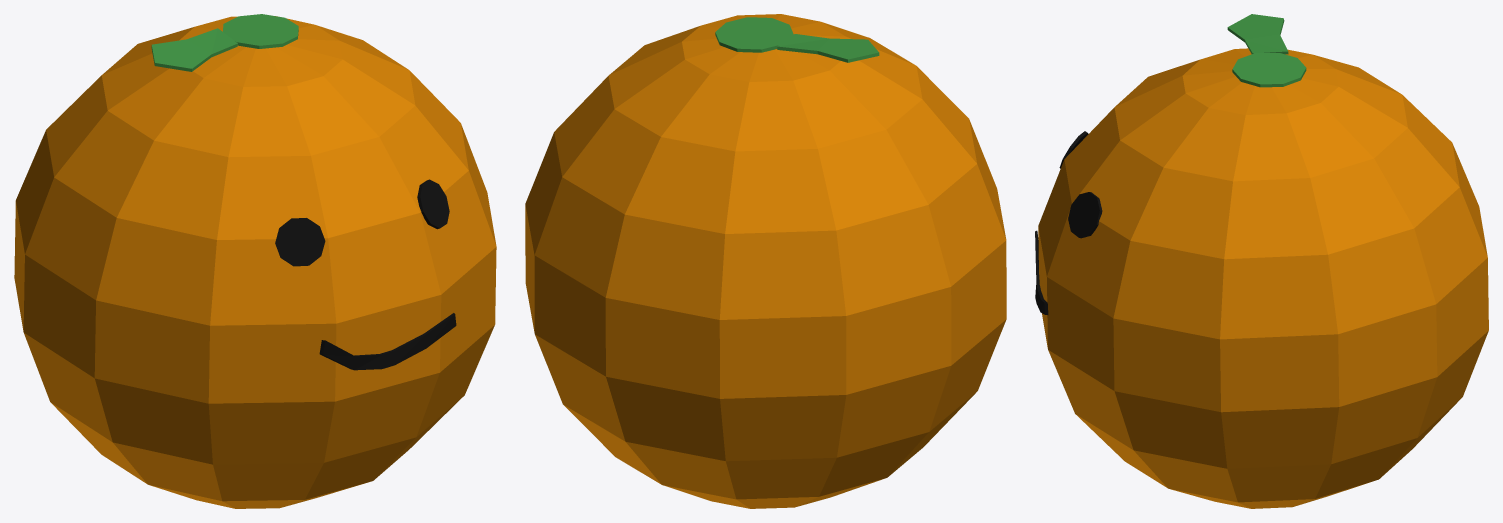
3 renders of one model, left to right at view 1: azimuth 30°, elevation 25°; view 2: azimuth 150°, elevation 25°; view 3: azimuth 270°, elevation 25°, orthographic. The views are drawn at different scales.
Parts seen in each view (by area): view 1: node_MeshObject-1044936704-PolyPaper13; view 2: node_MeshObject-1044936704-PolyPaper13; view 3: node_MeshObject-1044936704-PolyPaper13.
Boxes of the visible parts, bbox=[...] form: node_MeshObject-1044936704-PolyPaper13: bbox=[14, 14, 496, 508]; node_MeshObject-1044936704-PolyPaper13: bbox=[525, 14, 1006, 508]; node_MeshObject-1044936704-PolyPaper13: bbox=[1035, 14, 1488, 508].
Size of the model in its own units: 0.6686 by 0.701 by 0.6738.
